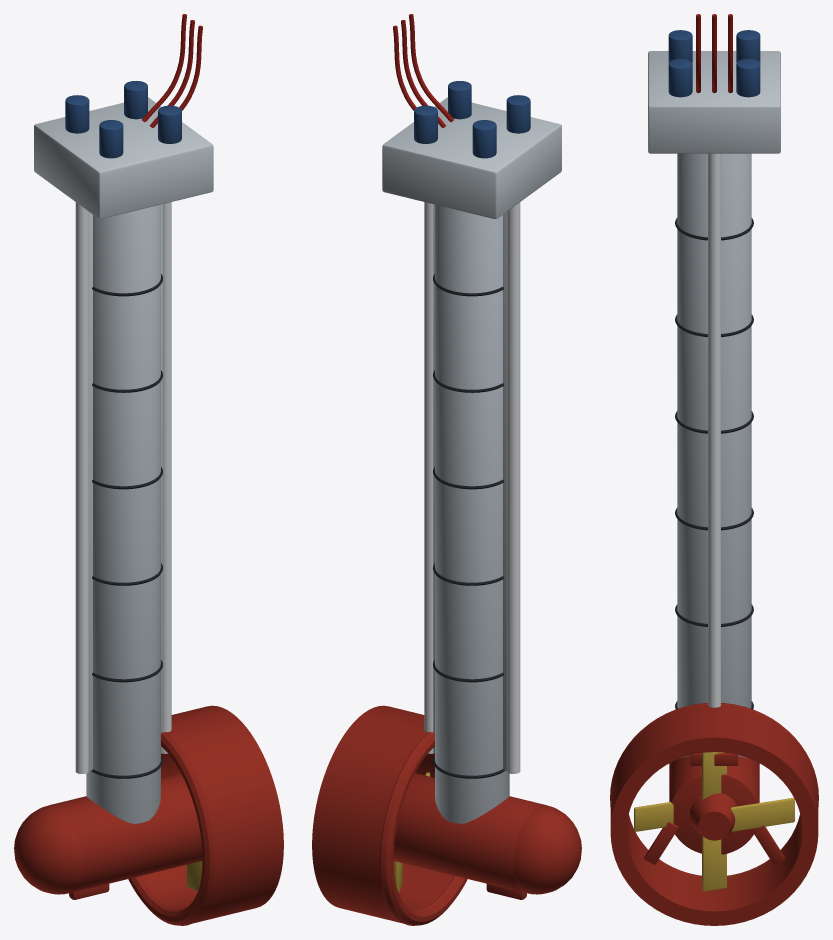
File: thruster.glb
3 renders of one model, left to right at view 1: azimuth 30°, elevation 25°; view 2: azimuth 150°, elevation 25°; view 3: azimuth 270°, elevation 25°, orthographic.
Parts seen in each view (by area): view 1: column, nozzle, pod; view 2: column, nozzle, pod; view 3: column, nozzle, pod, prop.
Part boxes in pixels (bbox=[...]): column: bbox=[34, 14, 213, 823]; nozzle: bbox=[128, 705, 283, 925]; pod: bbox=[14, 773, 202, 899]; column: bbox=[382, 14, 561, 823]; nozzle: bbox=[312, 705, 467, 925]; pod: bbox=[393, 773, 581, 899]; column: bbox=[648, 14, 780, 757]; nozzle: bbox=[610, 703, 818, 925]; pod: bbox=[669, 756, 759, 854]; prop: bbox=[634, 752, 794, 891].
Size of the model in its own units: 9.2 by 36.93 by 7.84.
